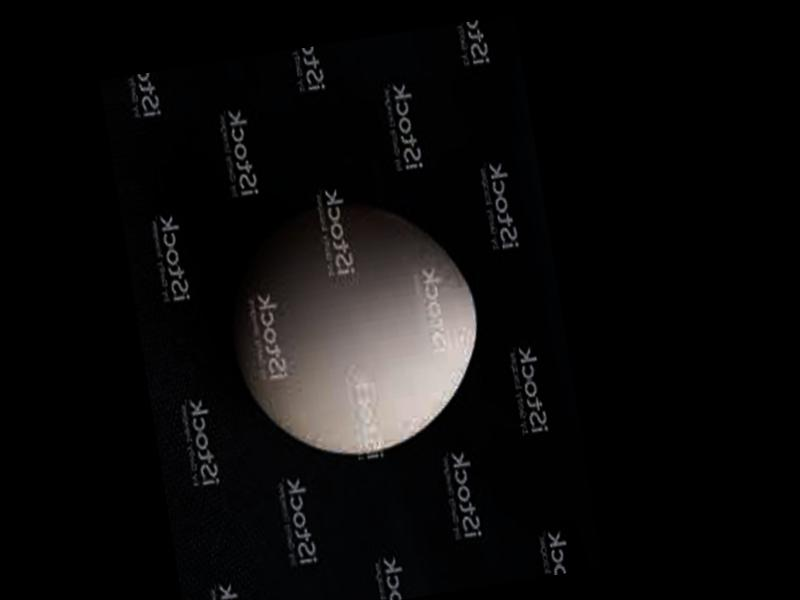Eggs: (212, 184, 495, 471)
